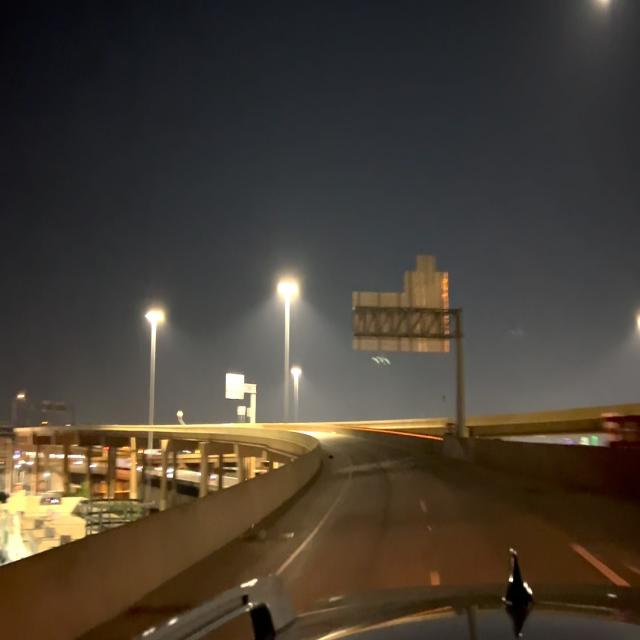back-of-sign: (354, 289, 449, 352), (405, 271, 449, 289), (418, 258, 436, 269)
